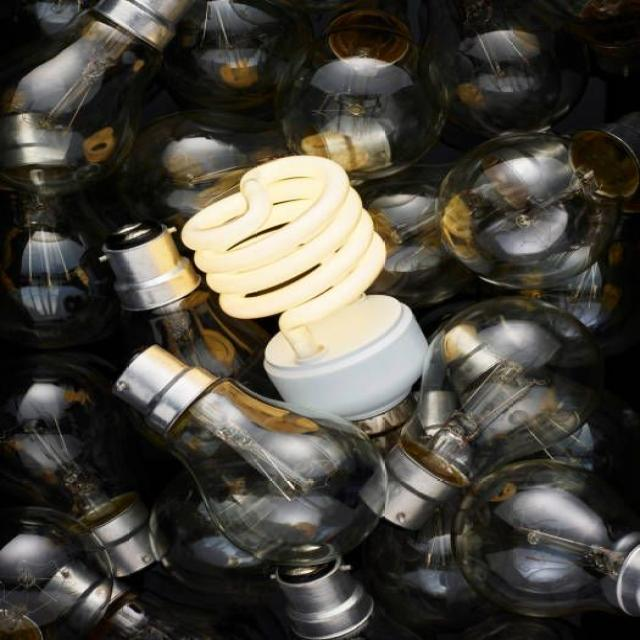electronic: (0, 0, 639, 639), (111, 342, 390, 567), (435, 124, 635, 288)
